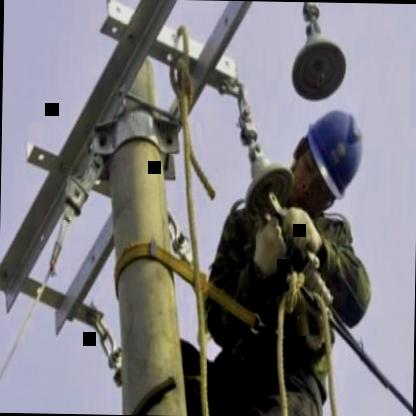helmet: (283, 97, 368, 216)
